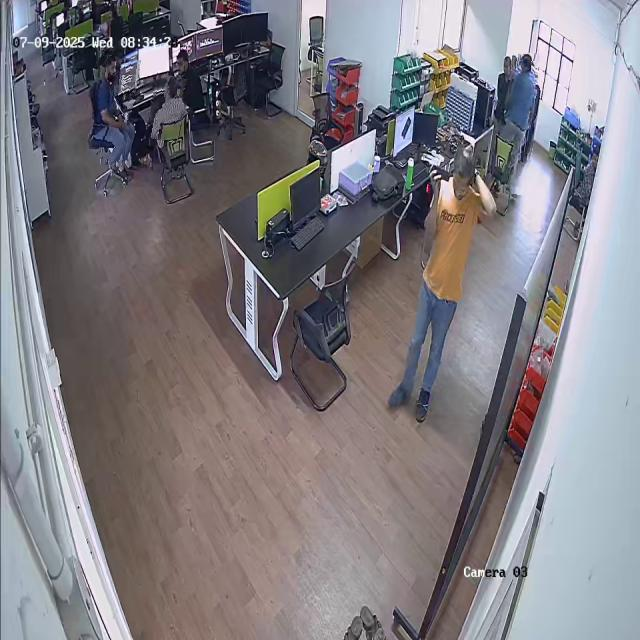person: (386, 150, 497, 423), (88, 55, 136, 166), (503, 53, 537, 195), (148, 75, 188, 142)
